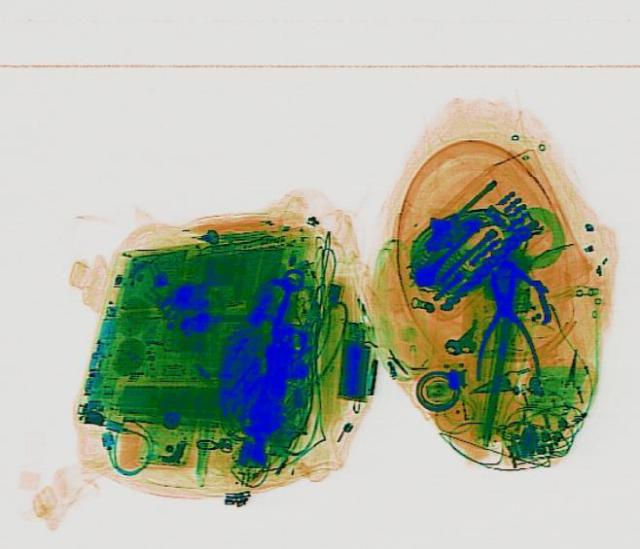Pliers: (469, 264, 538, 379)
